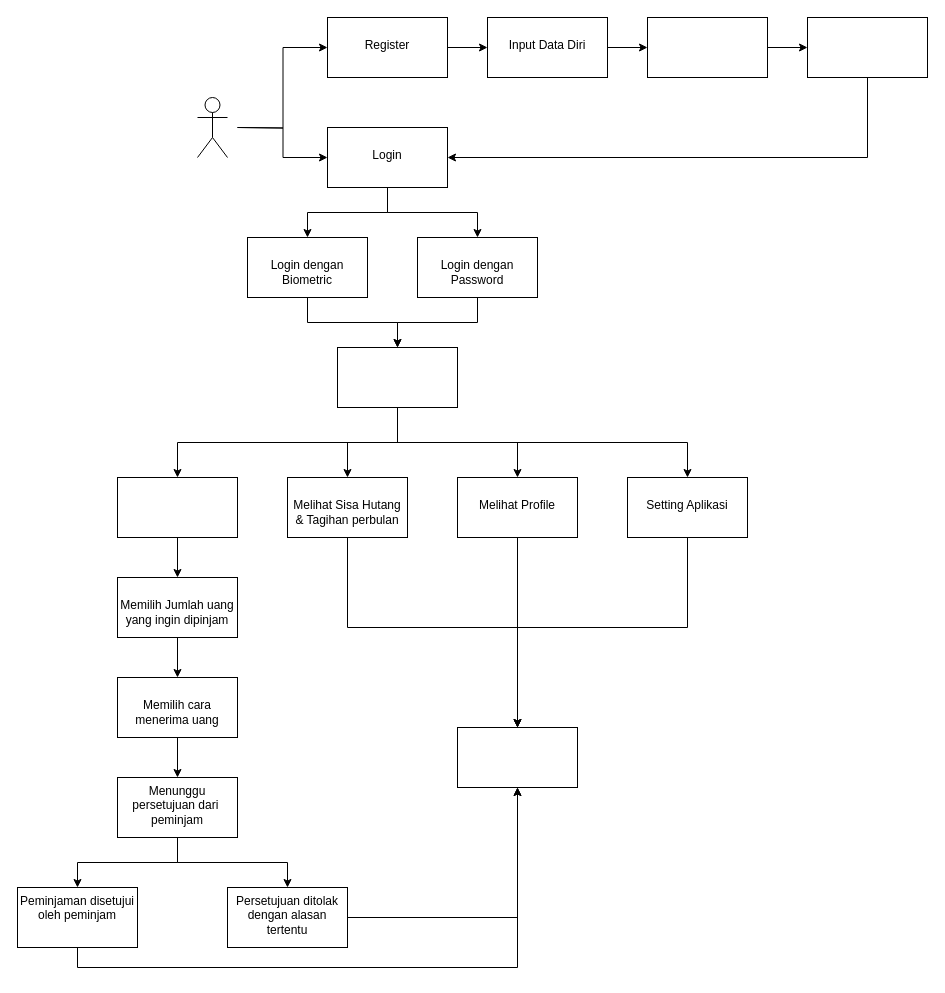
This 945x993 diagram has some shape labels left out. The centre of each missing label's shape, as x and y in pixels:
Input Email & Nomor Telp: [707,47]
Input Foto diri bersama KTP: [867,47]
Kembali ke halaman depan: [517,757]
Masuk ke halaman depan: [397,377]
Mengajukan peminjaman uang: [177,507]
User: [212,127]
